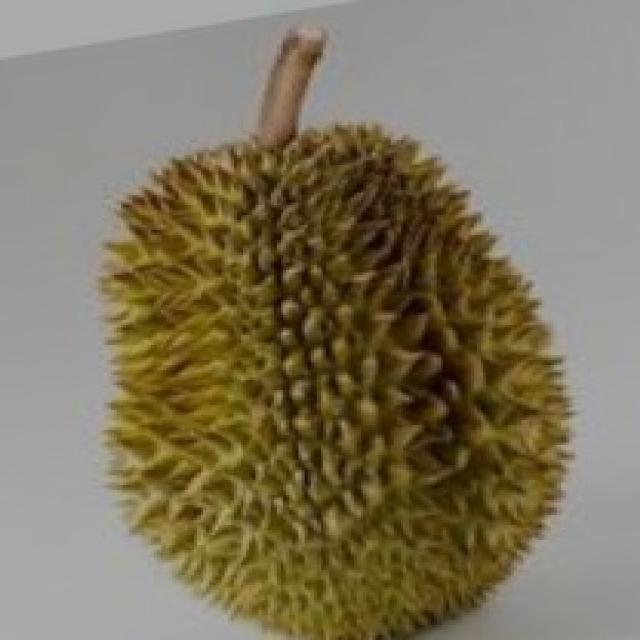fruit: (264, 245, 624, 640), (49, 267, 412, 640)
